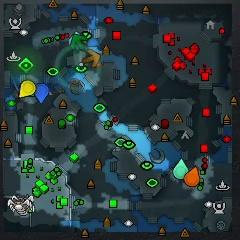Other: (19, 58, 34, 73)
p1: (34, 83, 50, 104)
p2: (172, 159, 189, 179)
p4: (19, 81, 36, 98)
p5: (184, 167, 200, 188)
x3: (68, 32, 81, 50)
x4: (70, 35, 87, 51)
x5: (83, 49, 101, 68)
